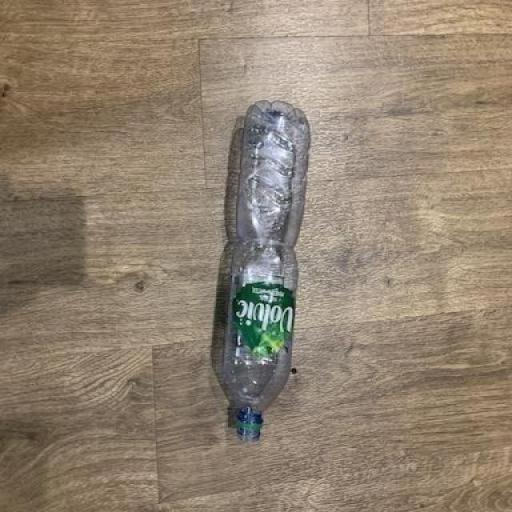plastic: (208, 100, 314, 441)
